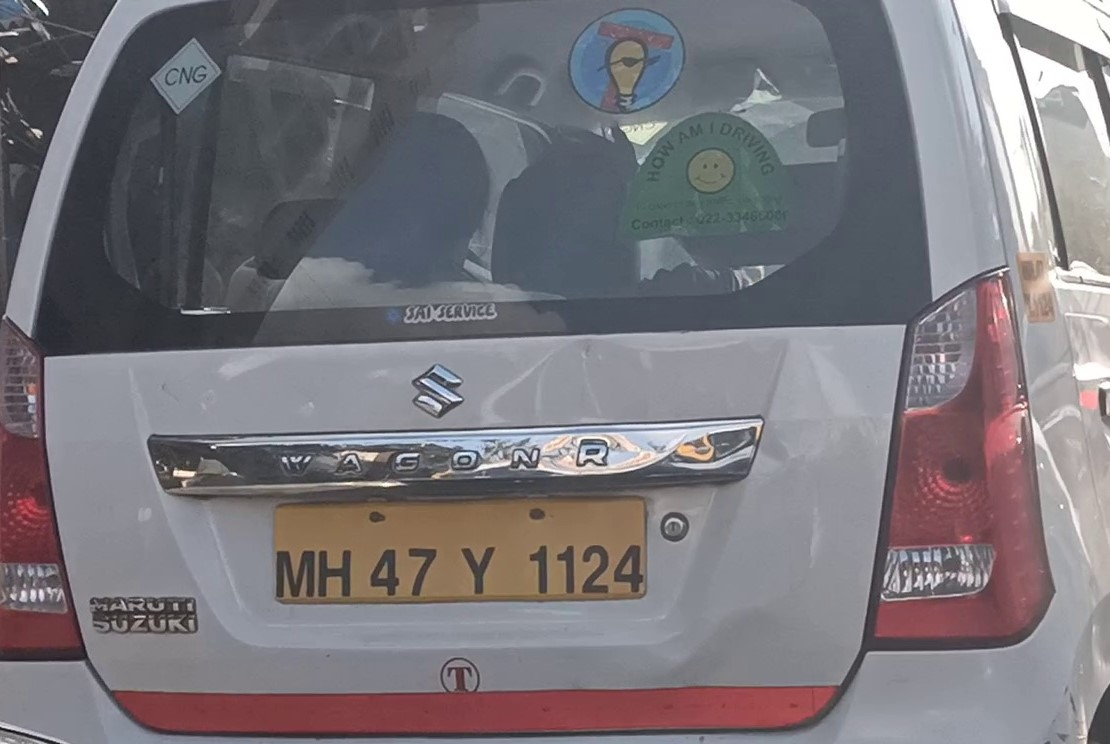MH47Y1124: (274, 498, 647, 598)
